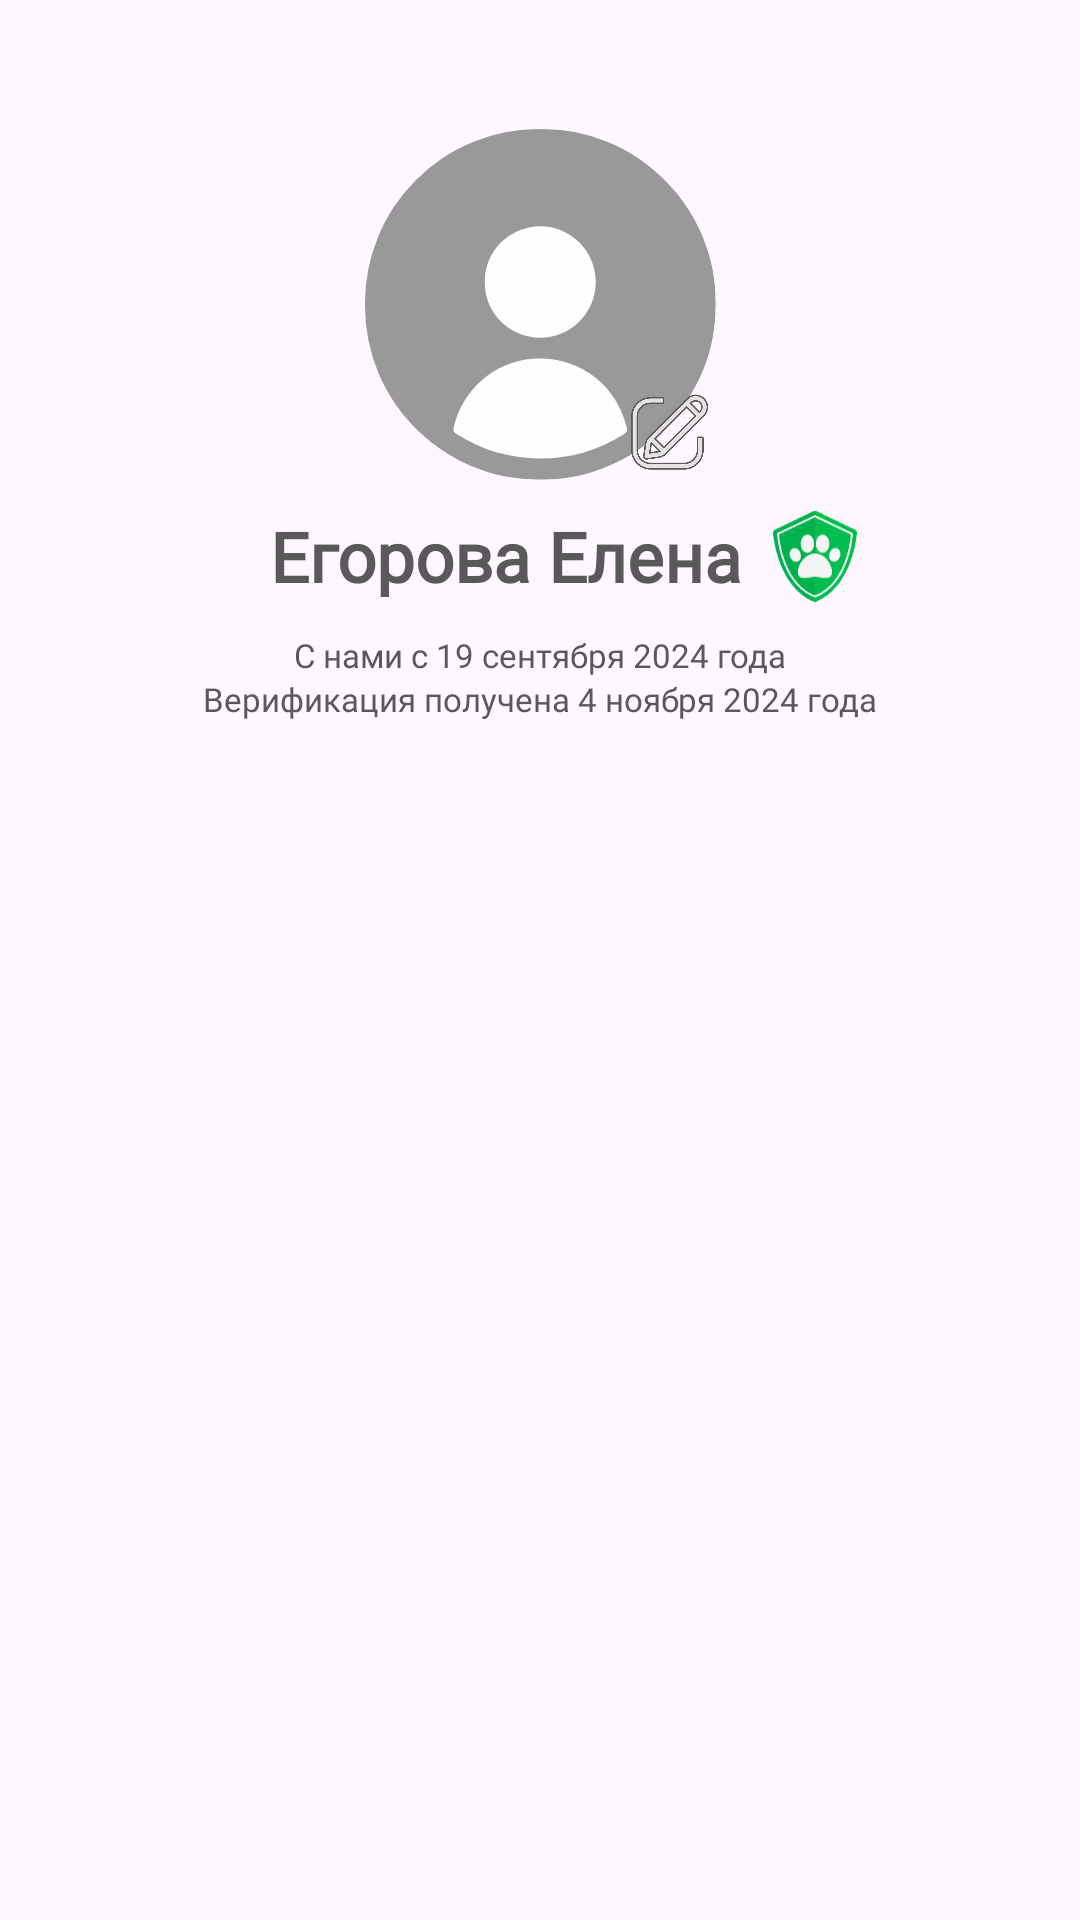

Icon click points for this 1080w x 1920h phone screenshot, format (x,y):
verified: (815,556)
